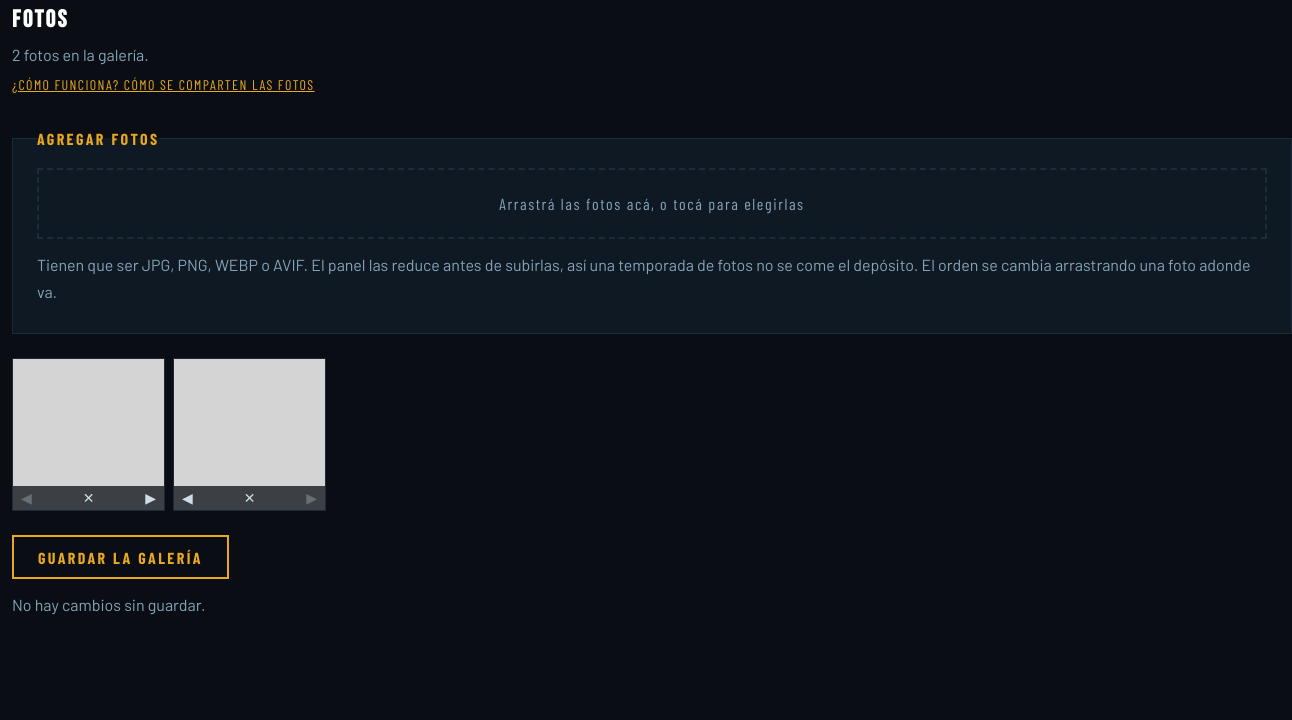
Test: PhotosScreen › takes a photograph out of the gallery and out of the bucket
The image size is (1292, 720).
Click the button named "Quitar la foto 1 de la galería": click(88, 498) [75,486,102,510]
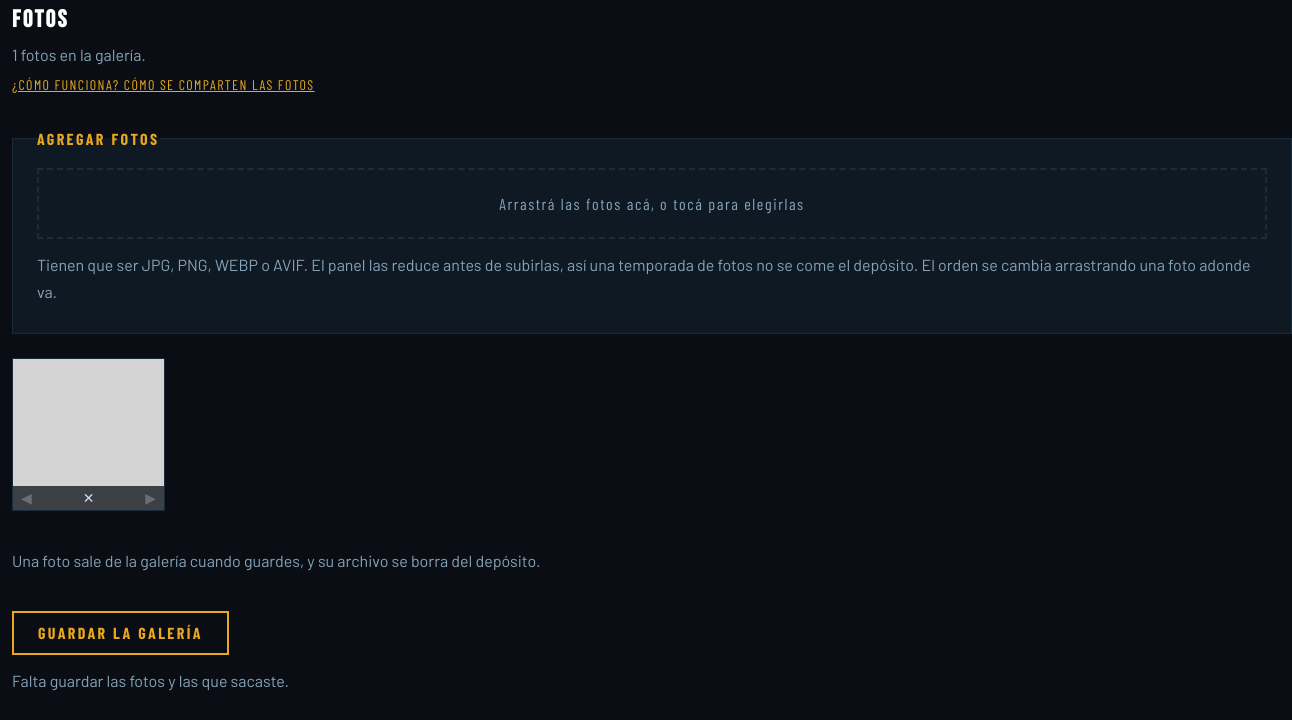
Now the text "Una foto sale de la galería cuando guardes, y su archivo se borra del depósito." is shown, box [12,551,540,570]
Click the button "Guardar la galería": click(120, 632) [12,610,229,654]
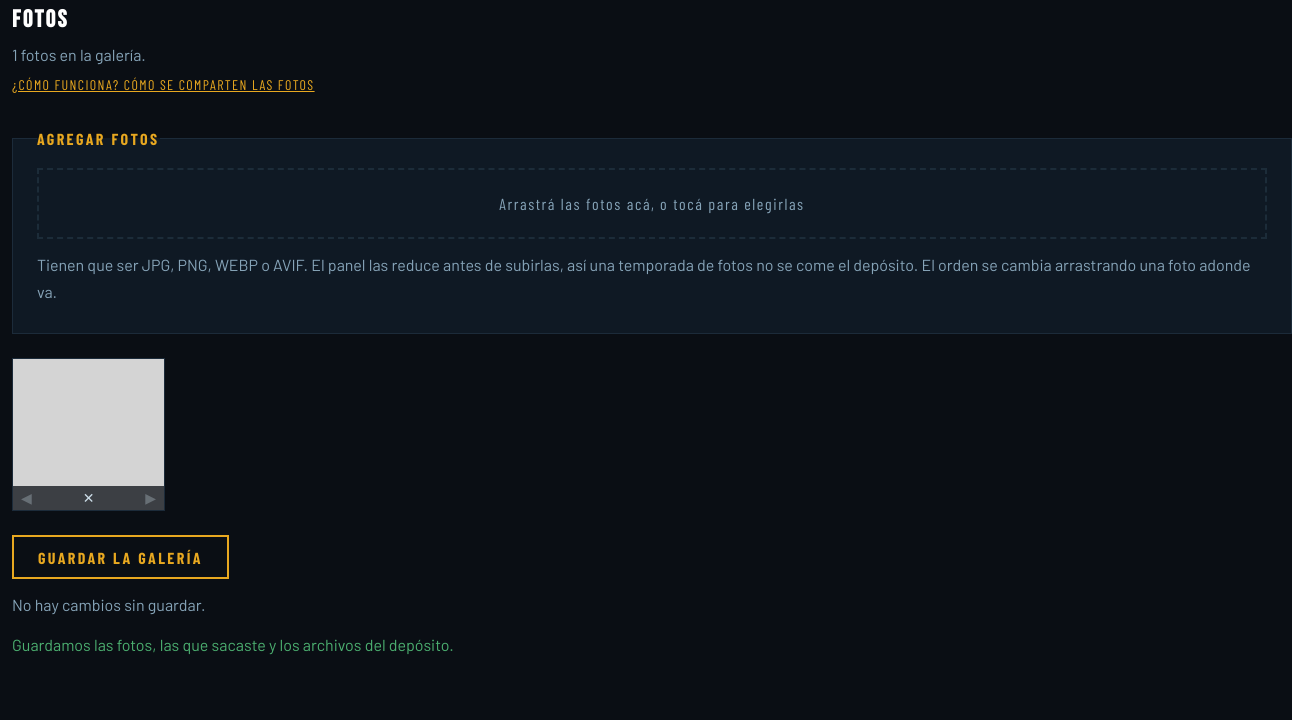
Now the text "Guardamos las fotos, las que sacaste y los archivos del depósito." is shown, box [12,630,454,658]
